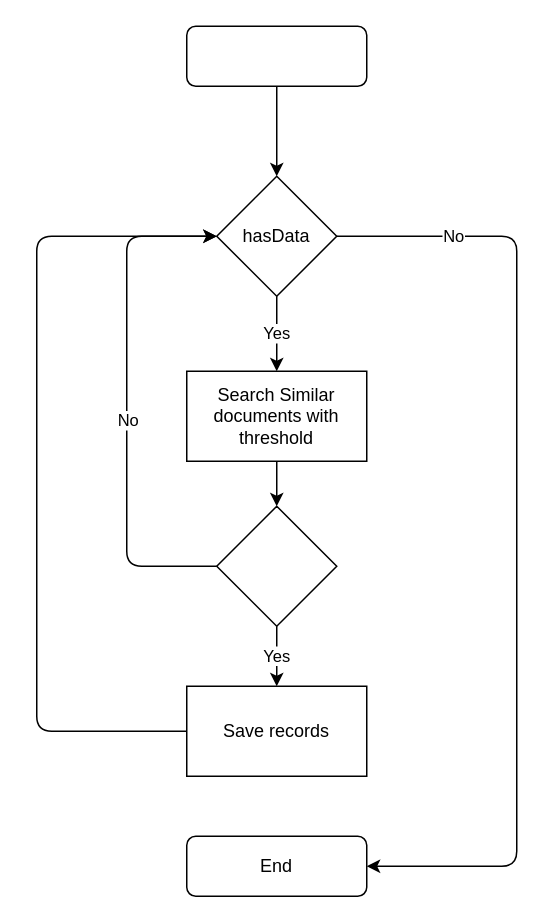
This 555x923 diagram has some shape labels left out. The box of each missing label's shape, as (x1, y1, x2, y2) in pixels:
hasResults: (215, 505, 337, 626)
Start: (185, 25, 367, 86)
